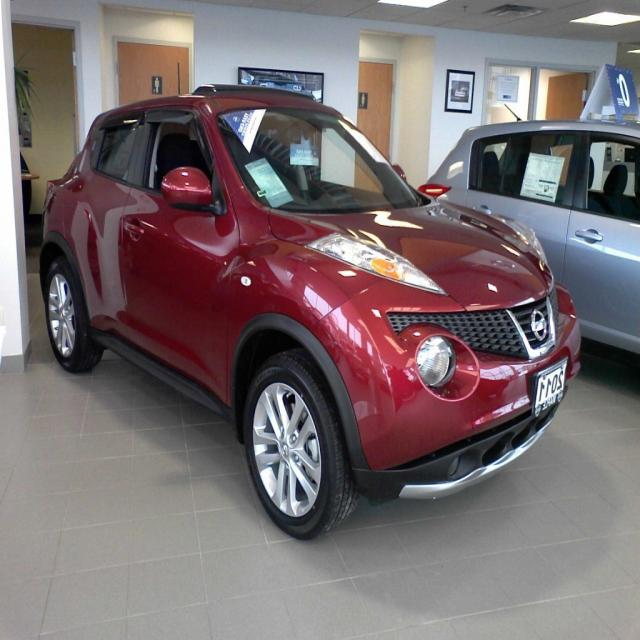car: (28, 82, 586, 539)
